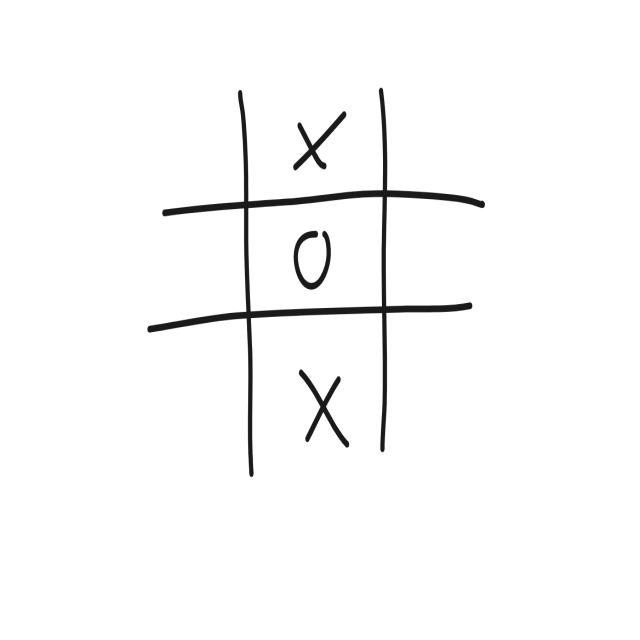O: (275, 220, 347, 290)
X: (281, 348, 360, 453), (274, 98, 354, 184)
grid: (132, 69, 513, 495)
